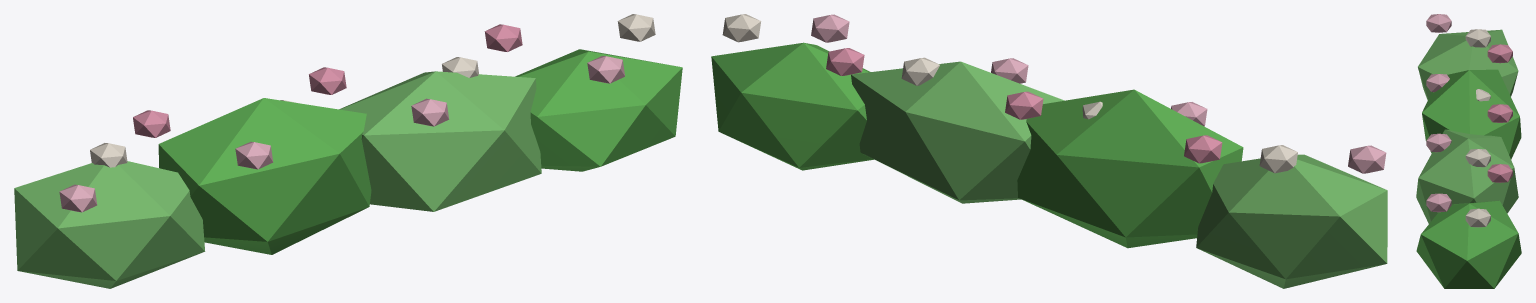
File: hedge.glb
3 renders of one model, left to right at view 1: azimuth 30°, elevation 25°; view 2: azimuth 150°, elevation 25°; view 3: azimuth 270°, elevation 25°, orthographic. The views are drawn at different scales.
Visible parts, largest first — view 1: root_mesh; view 2: root_mesh; view 3: root_mesh.
Part boxes in pixels (x1,y1,x2,y2): root_mesh: (14, 14, 682, 288); root_mesh: (711, 14, 1387, 288); root_mesh: (1416, 14, 1521, 288).
Size of the model in its own units: 6.12 by 1.39 by 1.21.
